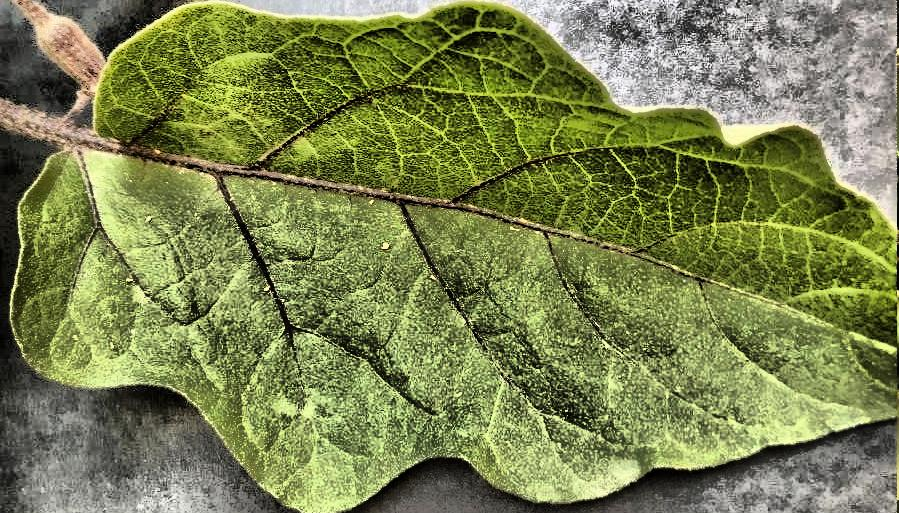HEALTHY: (1, 0, 899, 513)
